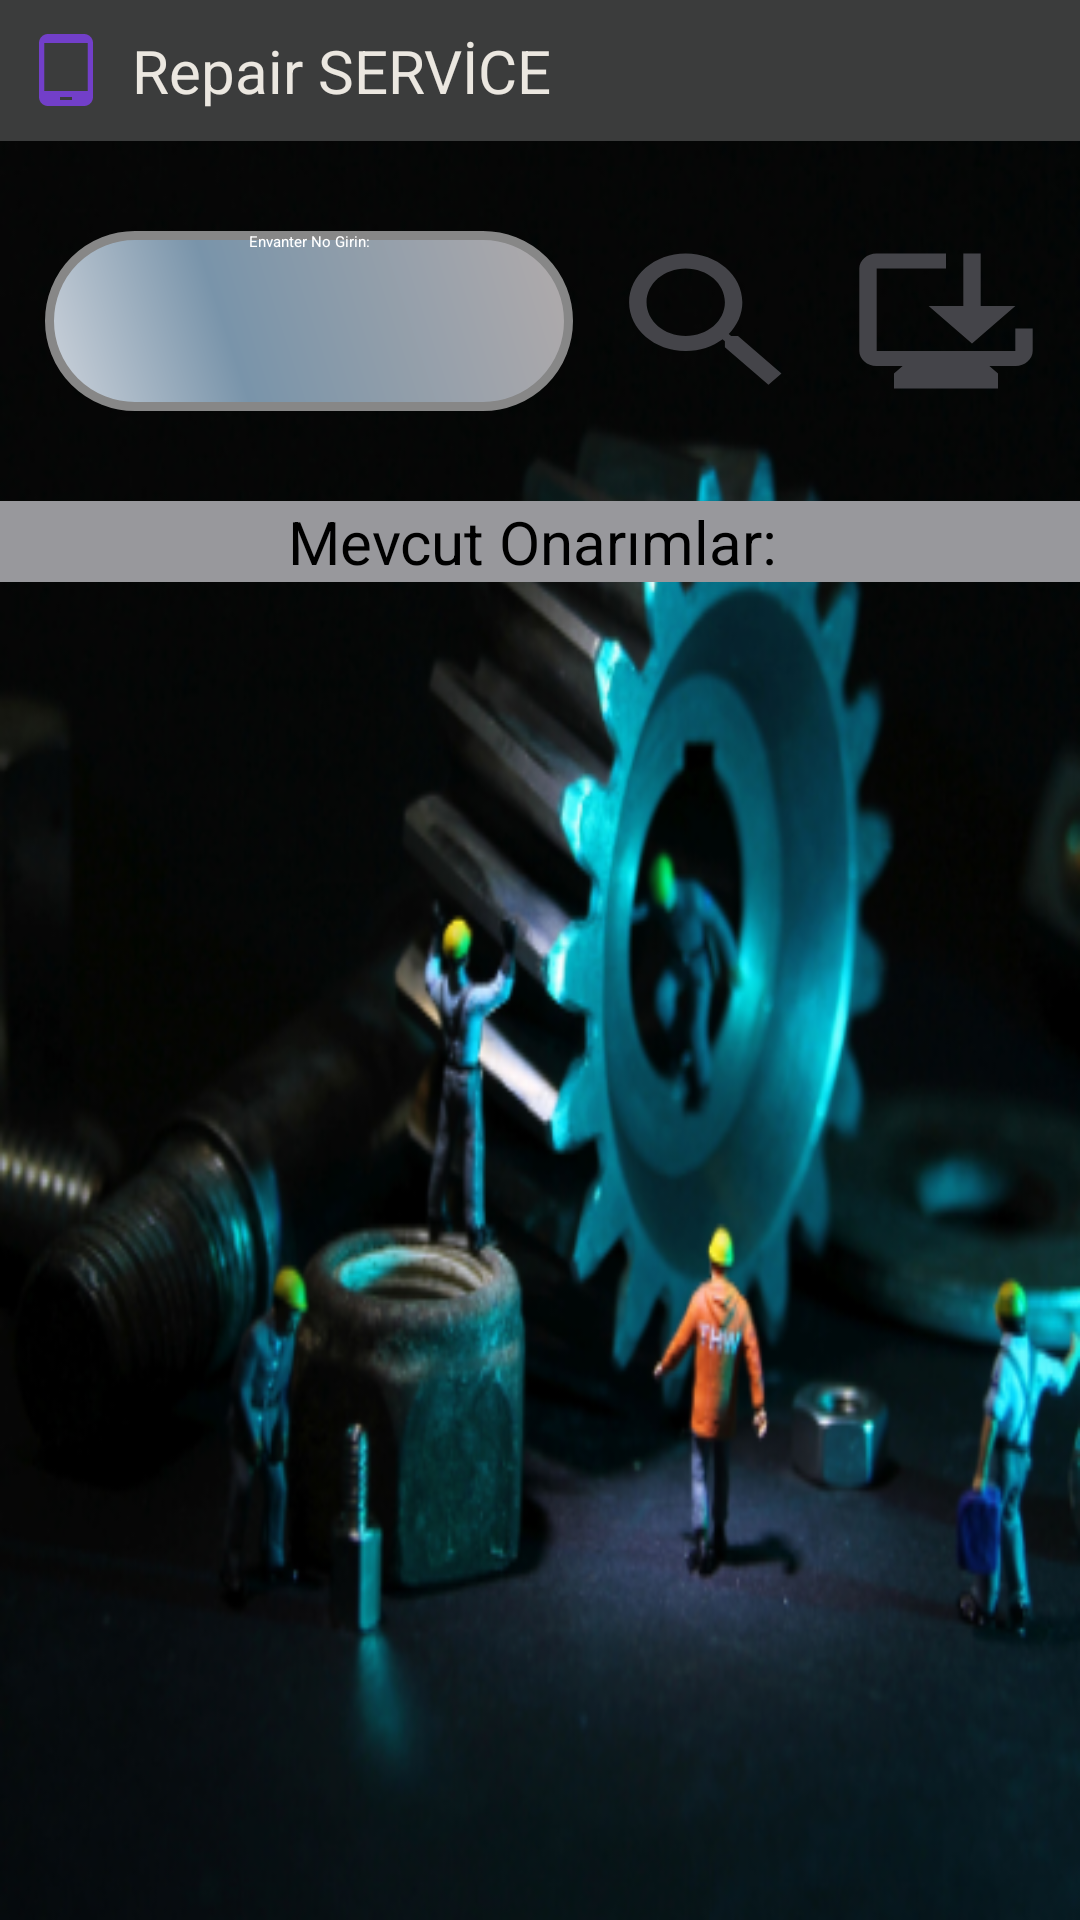

Point at icon controls on the screen. Image size 1080 x 1920, points as (x,y).
tablet android: (66,70)
